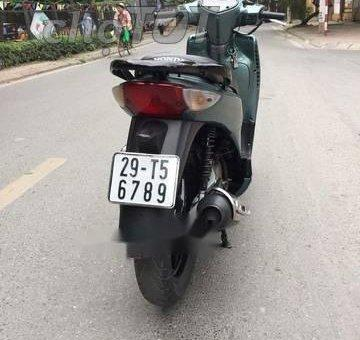numplate: (106, 147, 179, 210)
